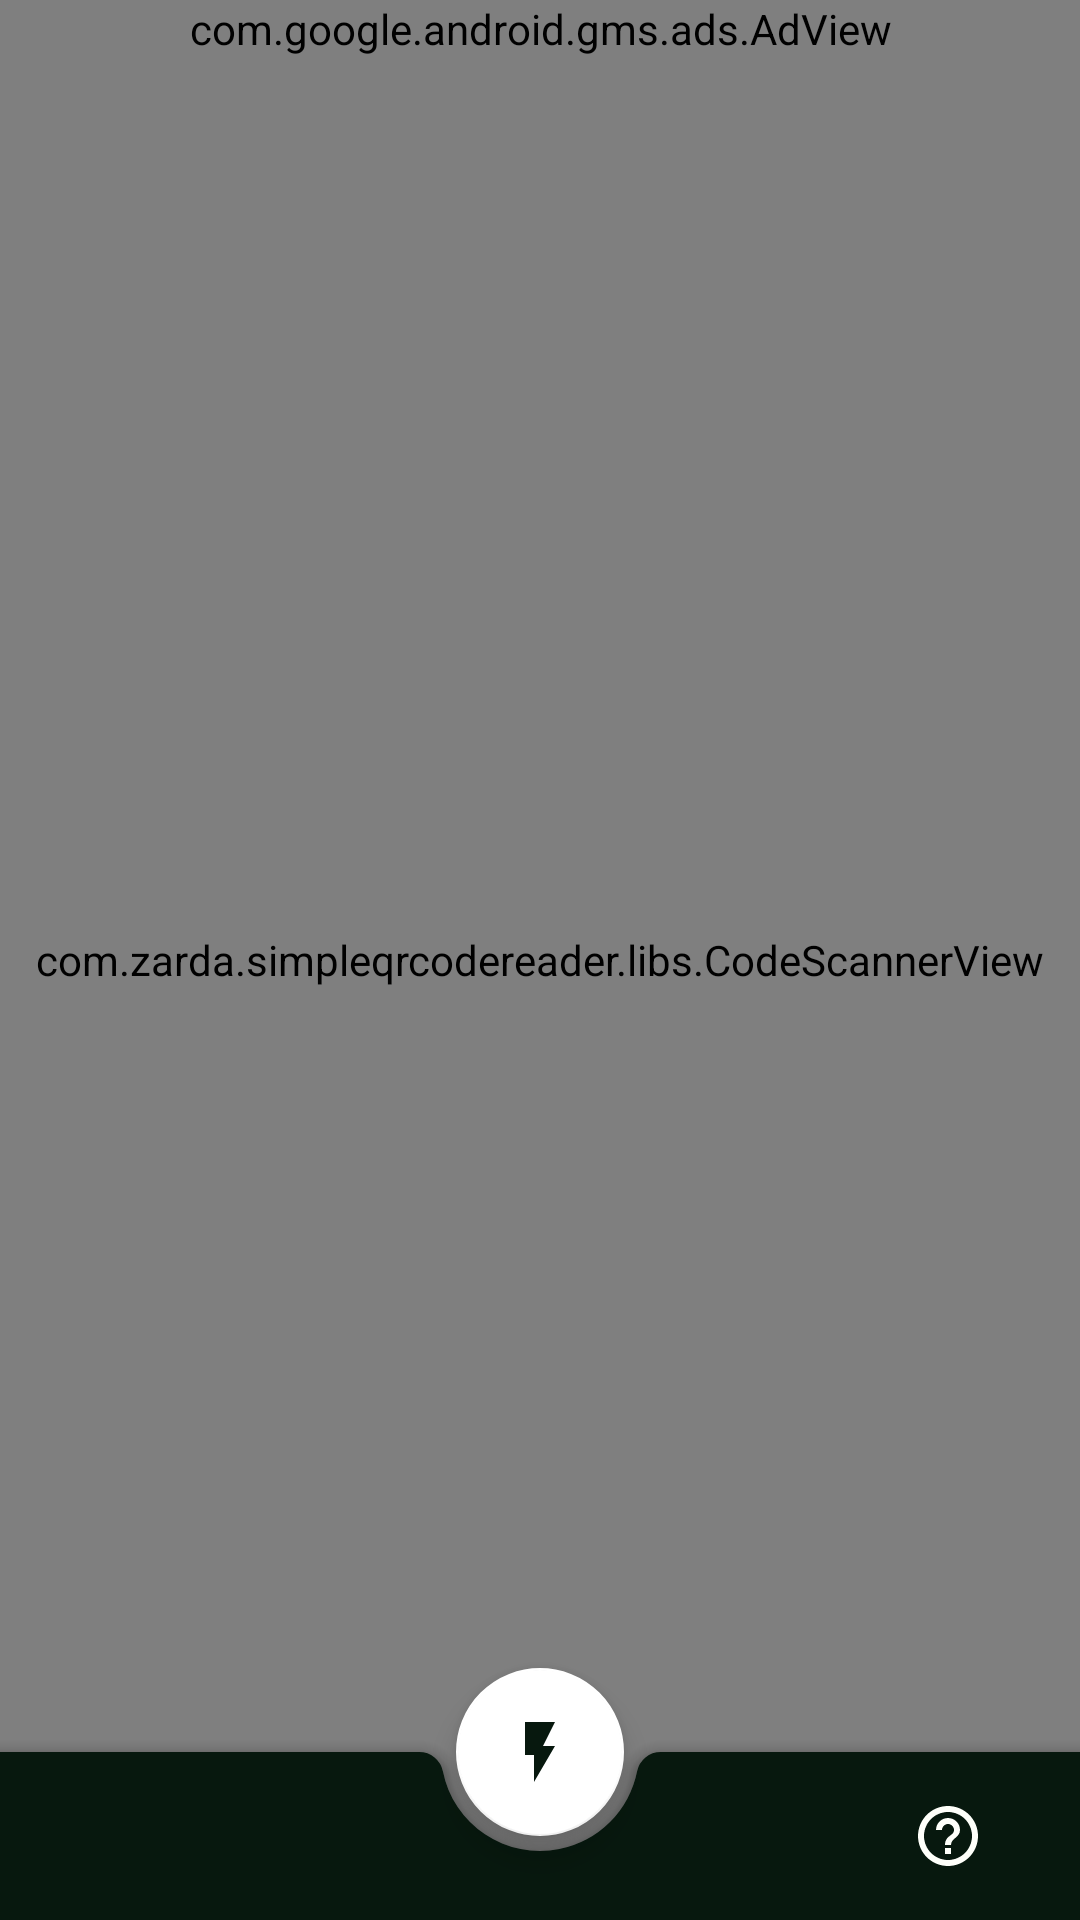

Where to tap for icons on this 1080px×1920px app screen, as point (x, y):
about: point (948, 1836)
